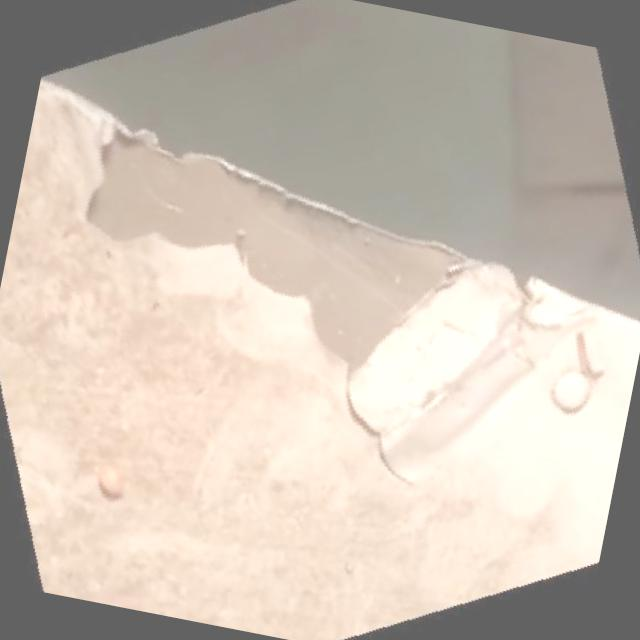crack: (282, 354, 446, 478)
